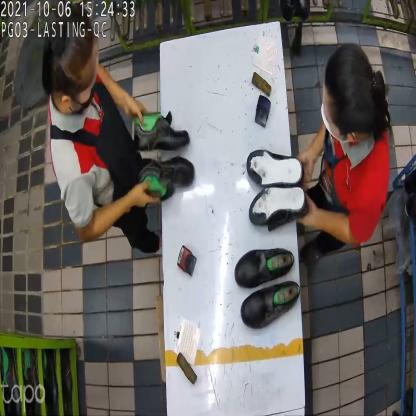shoes: (130, 117, 198, 193), (238, 249, 300, 330), (250, 150, 306, 229)
stamp: (176, 244, 198, 279), (254, 92, 274, 130)
